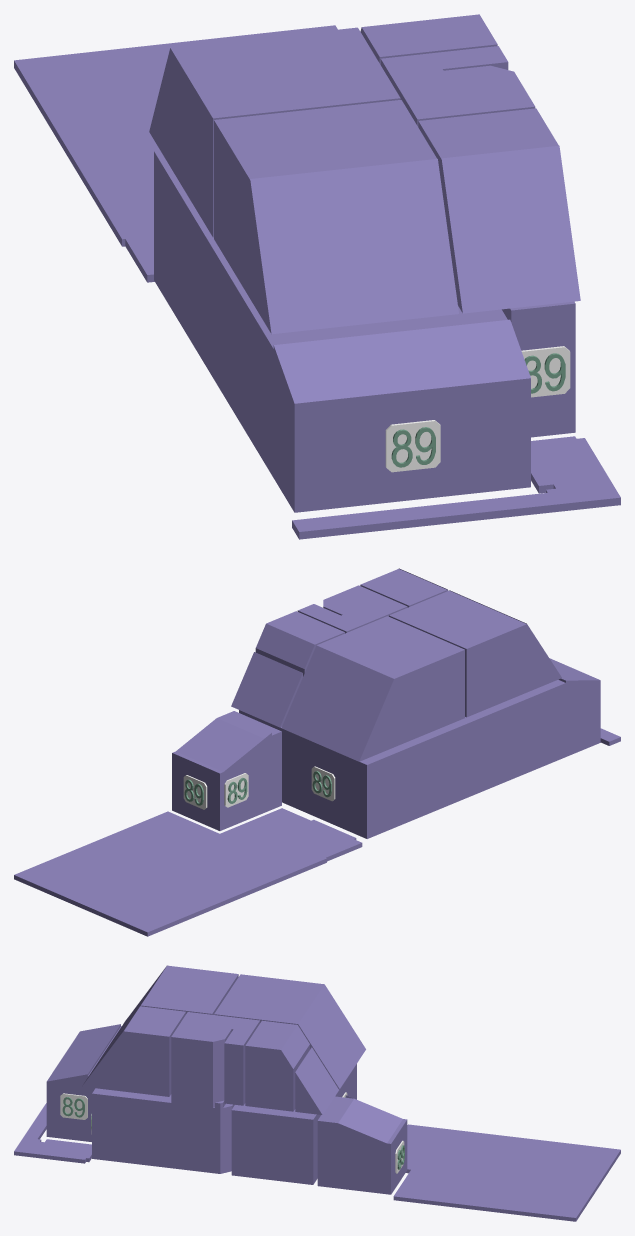
3 views of the same model, one above another, from view 1: azimuth 30°, elevation 25°; view 2: azimuth 150°, elevation 25°; view 3: azimuth 270°, elevation 25° (orthographic). The views are drawn at different scales.
Parts seen in each view (by area): view 1: g_1, g_8, g_9, g_7, g_15, g_0, g_10, g_14, g_13, g_4, g_6, g_11 (+2 smaller); view 2: g_15, g_7, g_1, g_0, g_8, g_5, g_12, g_6, g_10, g_9, g_11; view 3: g_15, g_5, g_7, g_0, g_9, g_4, g_6, g_2, g_1, g_11, g_8, g_10 (+4 smaller).
Part boxes in pixels (<box>): g_1: <box>196,220,530,512</box>; g_8: <box>214,100,458,334</box>; g_9: <box>418,108,580,313</box>; g_7: <box>149,27,400,237</box>; g_15: <box>14,25,337,282</box>; g_0: <box>154,150,201,349</box>; g_10: <box>380,46,508,126</box>; g_14: <box>292,492,554,539</box>; g_13: <box>531,436,620,512</box>; g_4: <box>502,301,575,437</box>; g_6: <box>360,14,497,64</box>; g_11: <box>444,65,535,113</box>; g_15: <box>14,808,362,936</box>; g_7: <box>281,616,464,761</box>; g_1: <box>430,658,600,810</box>; g_0: <box>239,710,436,838</box>; g_8: <box>389,590,561,717</box>; g_5: <box>172,711,281,830</box>; g_12: <box>231,652,302,727</box>; g_6: <box>255,611,344,676</box>; g_10: <box>297,594,407,633</box>; g_9: <box>360,568,448,607</box>; g_11: <box>323,585,377,615</box>; g_15: <box>393,1124,620,1221</box>; g_5: <box>317,1095,407,1194</box>; g_7: <box>214,974,365,1089</box>; g_0: <box>231,1064,356,1184</box>; g_9: <box>82,1006,185,1096</box>; g_4: <box>92,1088,171,1167</box>; g_6: <box>245,1020,309,1111</box>; g_2: <box>168,1097,234,1173</box>; g_1: <box>46,1024,121,1141</box>; g_11: <box>171,1026,231,1102</box>; g_8: <box>100,965,238,1058</box>; g_10: <box>178,1012,259,1105</box>.
Size of the model in its own units: 11.41 by 5.36 by 21.68.
